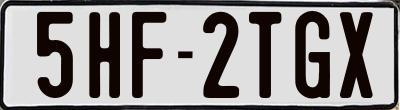2: (202, 11, 240, 97)
5: (34, 9, 70, 100)
F: (132, 9, 168, 100)
G: (292, 10, 331, 104)
H: (89, 11, 126, 101)
T: (249, 11, 281, 100)
X: (338, 9, 372, 101)
